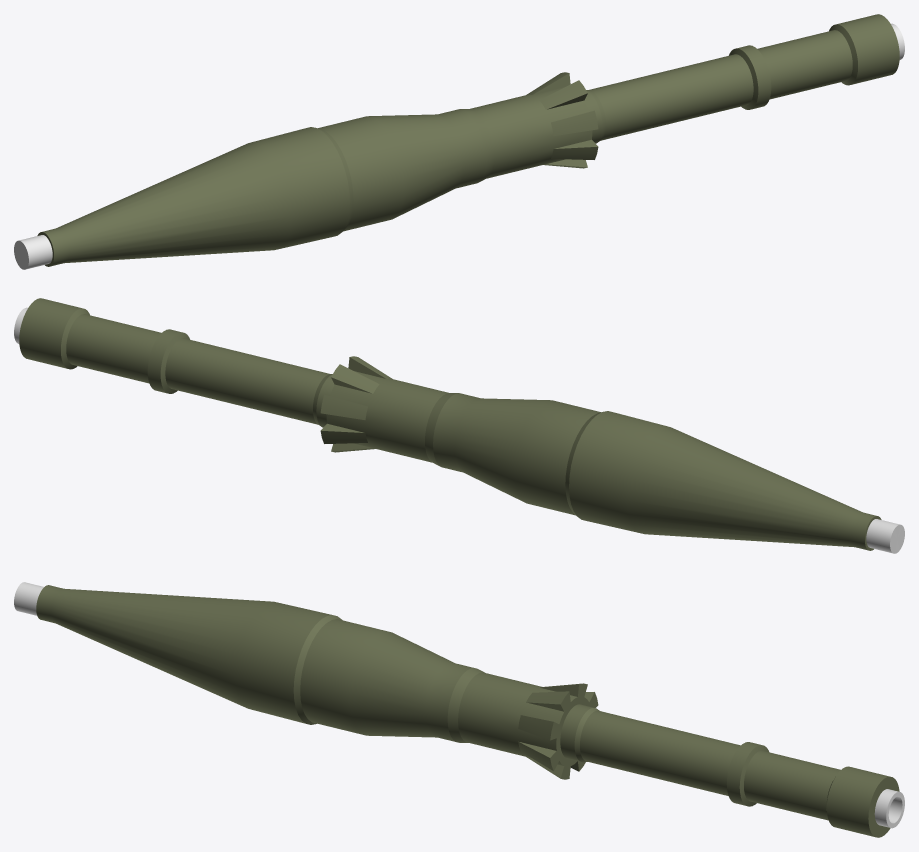
File: RPGAmmo.fbx
3 views of the same model, one above another, from view 1: azimuth 30°, elevation 25°; view 2: azimuth 150°, elevation 25°; view 3: azimuth 330°, elevation 25° (orthographic).
Parts seen in each view (by area): view 1: RPG Textured; view 2: RPG Textured; view 3: RPG Textured.
Part boxes in pixels (x1,y1,x2,y2): RPG Textured: (14, 14, 904, 269); RPG Textured: (14, 298, 904, 553); RPG Textured: (14, 582, 904, 837).
Size of the model in its own units: 599 by 66.81 by 66.81.
